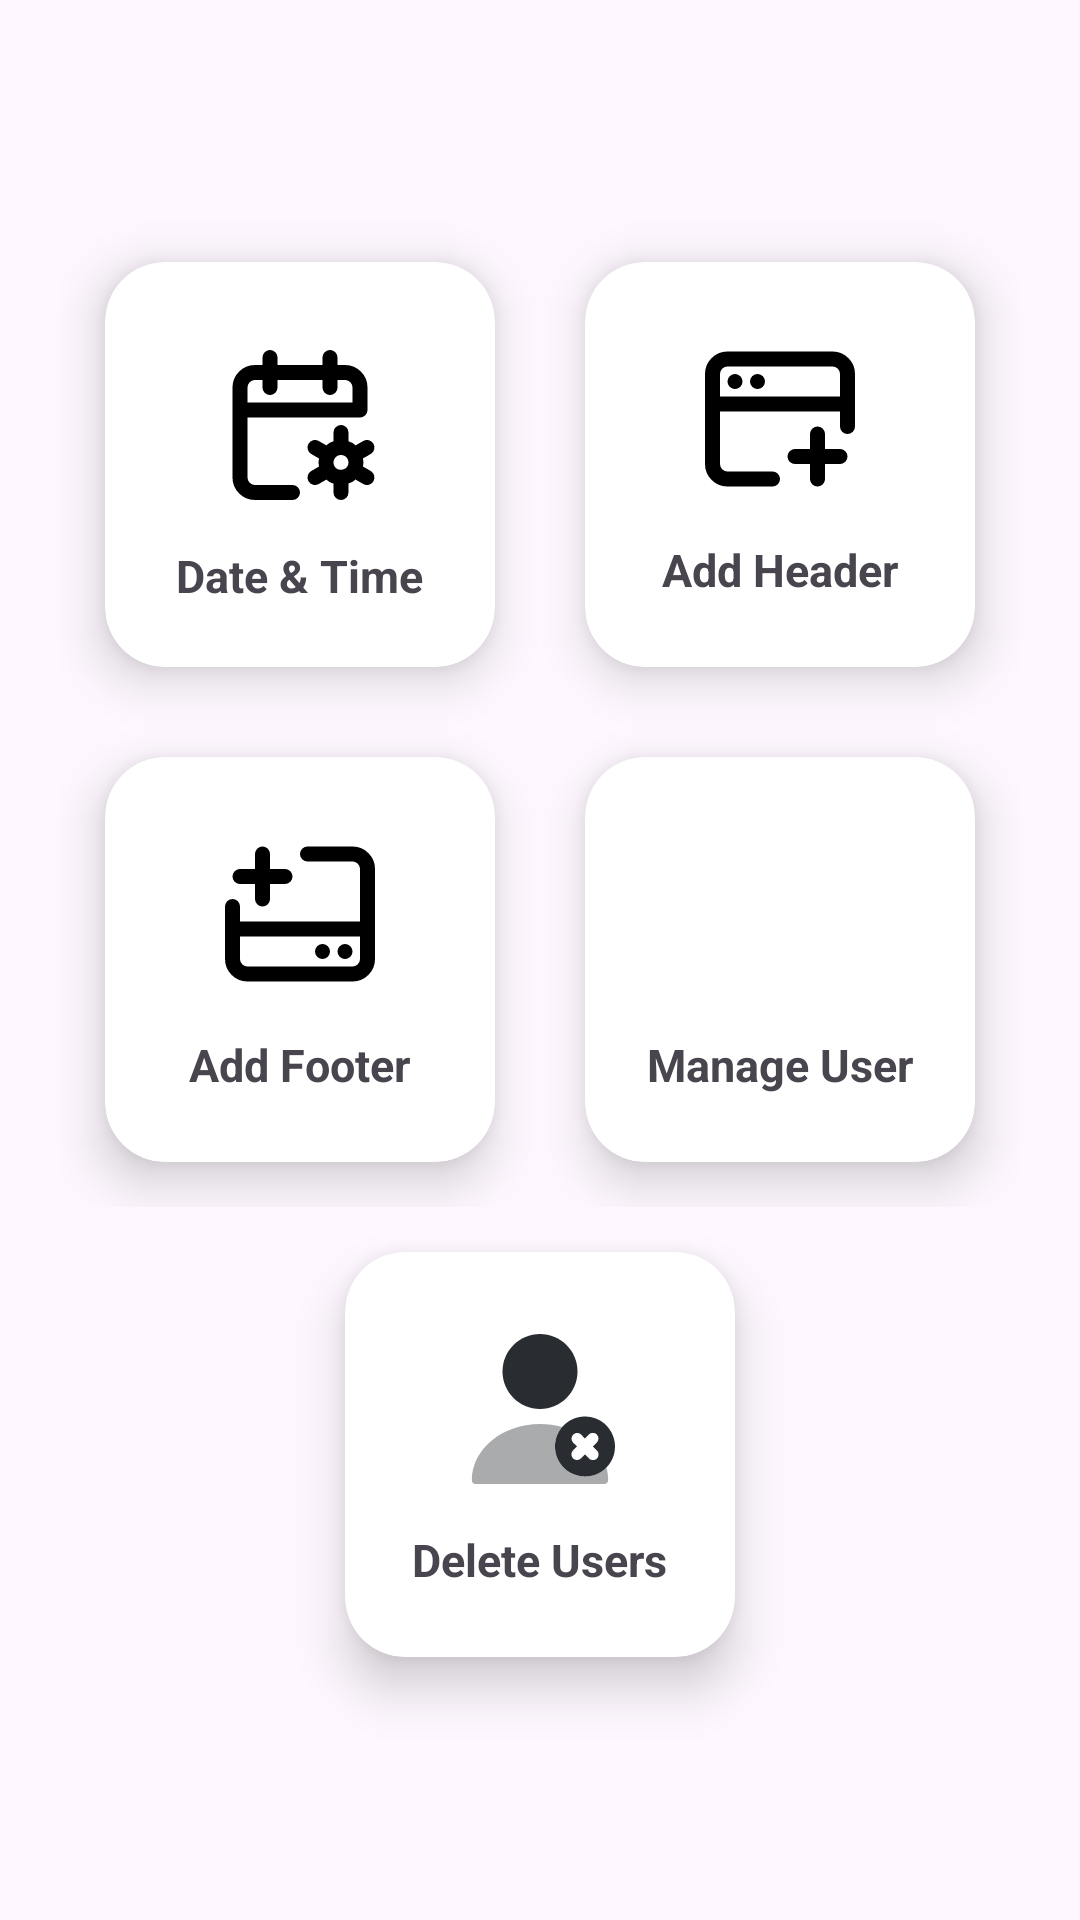

Named icons in this screenshot (1080*1920) and their centers, [x,y]:
user remove: [543,1409]
